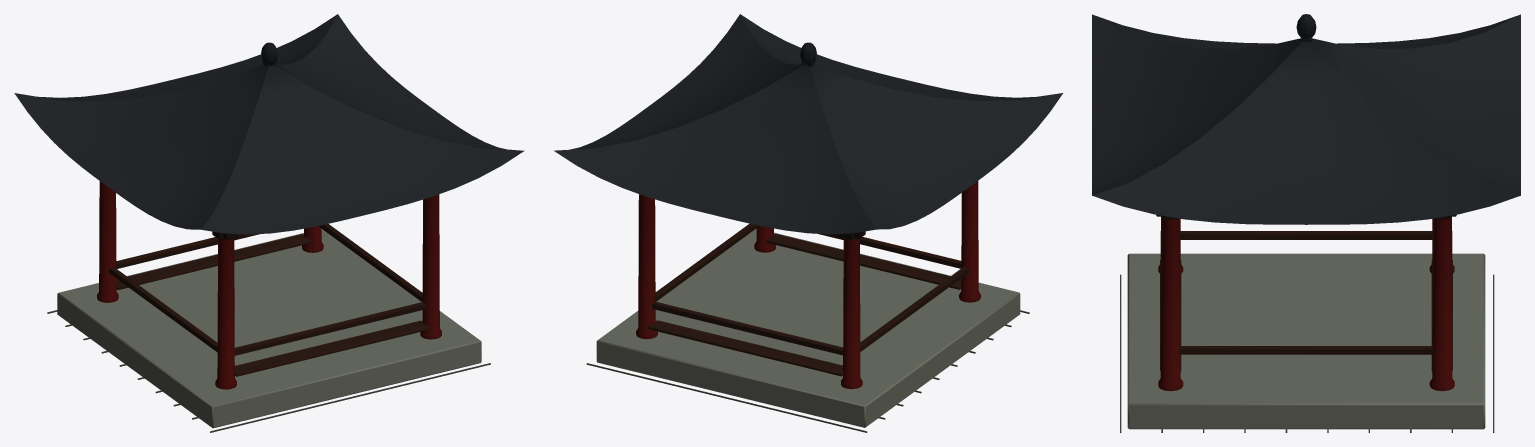
File: hz-pavilion-square.glb
3 views of the same model, side by side, from view 1: azimuth 30°, elevation 25°; view 2: azimuth 150°, elevation 25°; view 3: azimuth 270°, elevation 25° (orthographic). The views are drawn at different scales.
Visible parts, largest first — view 1: roof__tile, platform__stone, seat-rail__wood, columns__lacquer; view 2: roof__tile, platform__stone, seat-rail__wood, columns__lacquer; view 3: roof__tile, platform__stone, columns__lacquer, seat-rail__wood.
Part boxes in pixels (<box>): roof__tile: <box>14,14,524,234</box>; platform__stone: <box>47,228,490,432</box>; seat-rail__wood: <box>109,224,429,376</box>; columns__lacquer: <box>97,181,441,389</box>; roof__tile: <box>554,14,1062,234</box>; platform__stone: <box>586,228,1029,432</box>; seat-rail__wood: <box>648,223,968,376</box>; columns__lacquer: <box>636,181,980,389</box>; roof__tile: <box>1092,14,1520,224</box>; platform__stone: <box>1120,253,1494,432</box>; columns__lacquer: <box>1158,216,1454,391</box>; seat-rail__wood: <box>1160,231,1452,370</box>.
Bounding box in the file's own units: 6 × 5.25 × 6.
